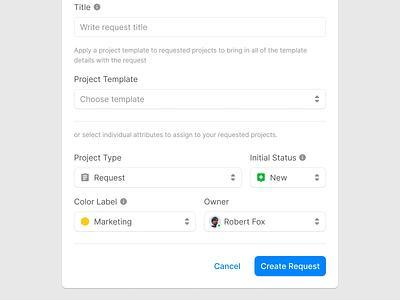button: (255, 256, 328, 278)
dropdown: (74, 88, 329, 111), (74, 167, 245, 190), (75, 210, 198, 234), (204, 210, 327, 233), (250, 167, 328, 190)
input: (74, 16, 328, 39)
label: (73, 74, 140, 86), (248, 152, 298, 164), (73, 153, 124, 164), (74, 196, 119, 208), (212, 262, 242, 271), (204, 198, 233, 207), (74, 3, 93, 14)
